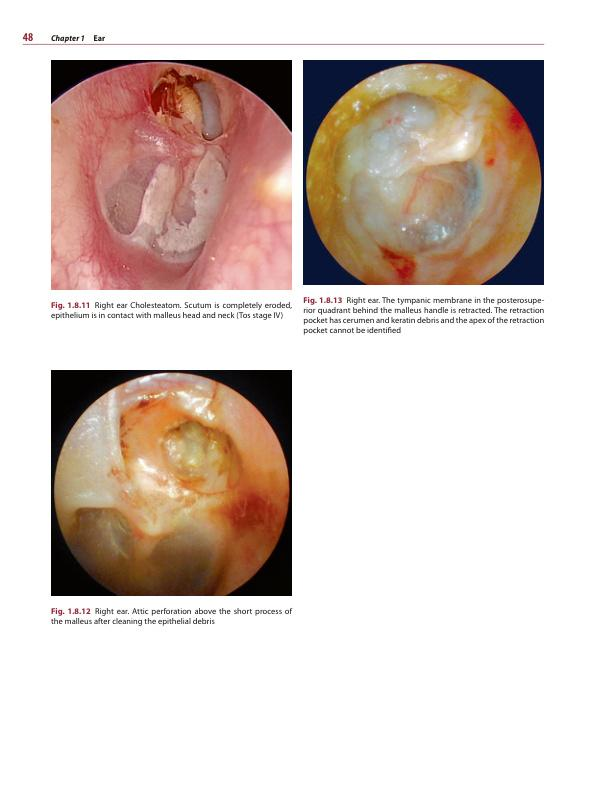caption: (302, 295, 545, 336), (50, 606, 293, 627), (50, 301, 293, 321)
header: (50, 33, 106, 44)
image: (50, 58, 292, 291), (50, 369, 293, 597), (302, 58, 544, 286)
